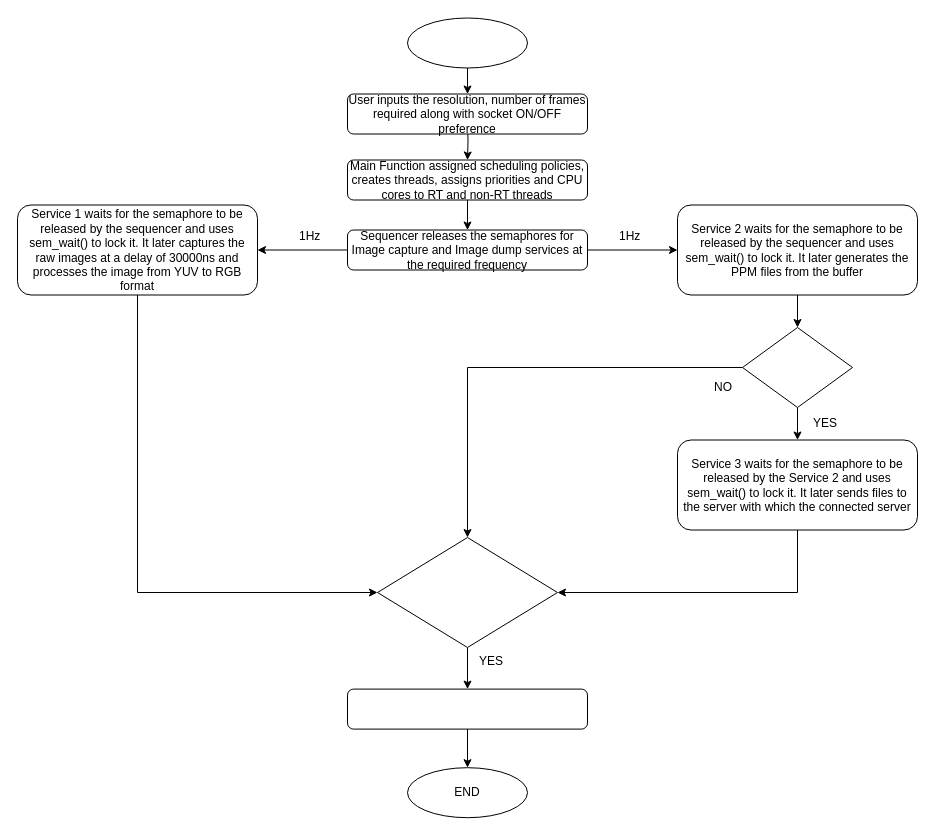
Some shapes in this 935 by 835 pixel diagram are drawn without their labels. The shapes that lost their labels are listed below. From the top down, each one's centre as x and y in pixels, then its label:
At point 467,42: "START".
At point 797,367: "Is the socket feature ON?".
At point 467,592: "Are all threads completely spawned?".
At point 467,708: "Join threads".
